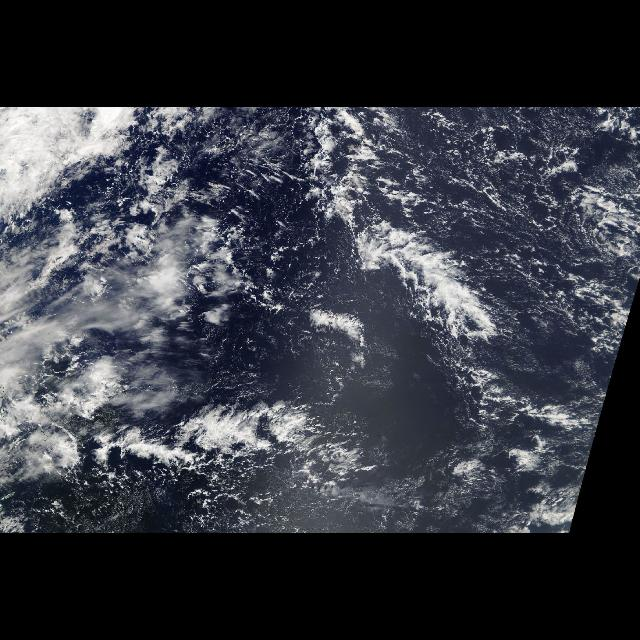Fish: (49, 112, 522, 514)
Gravel: (221, 109, 639, 378), (73, 414, 370, 534)
